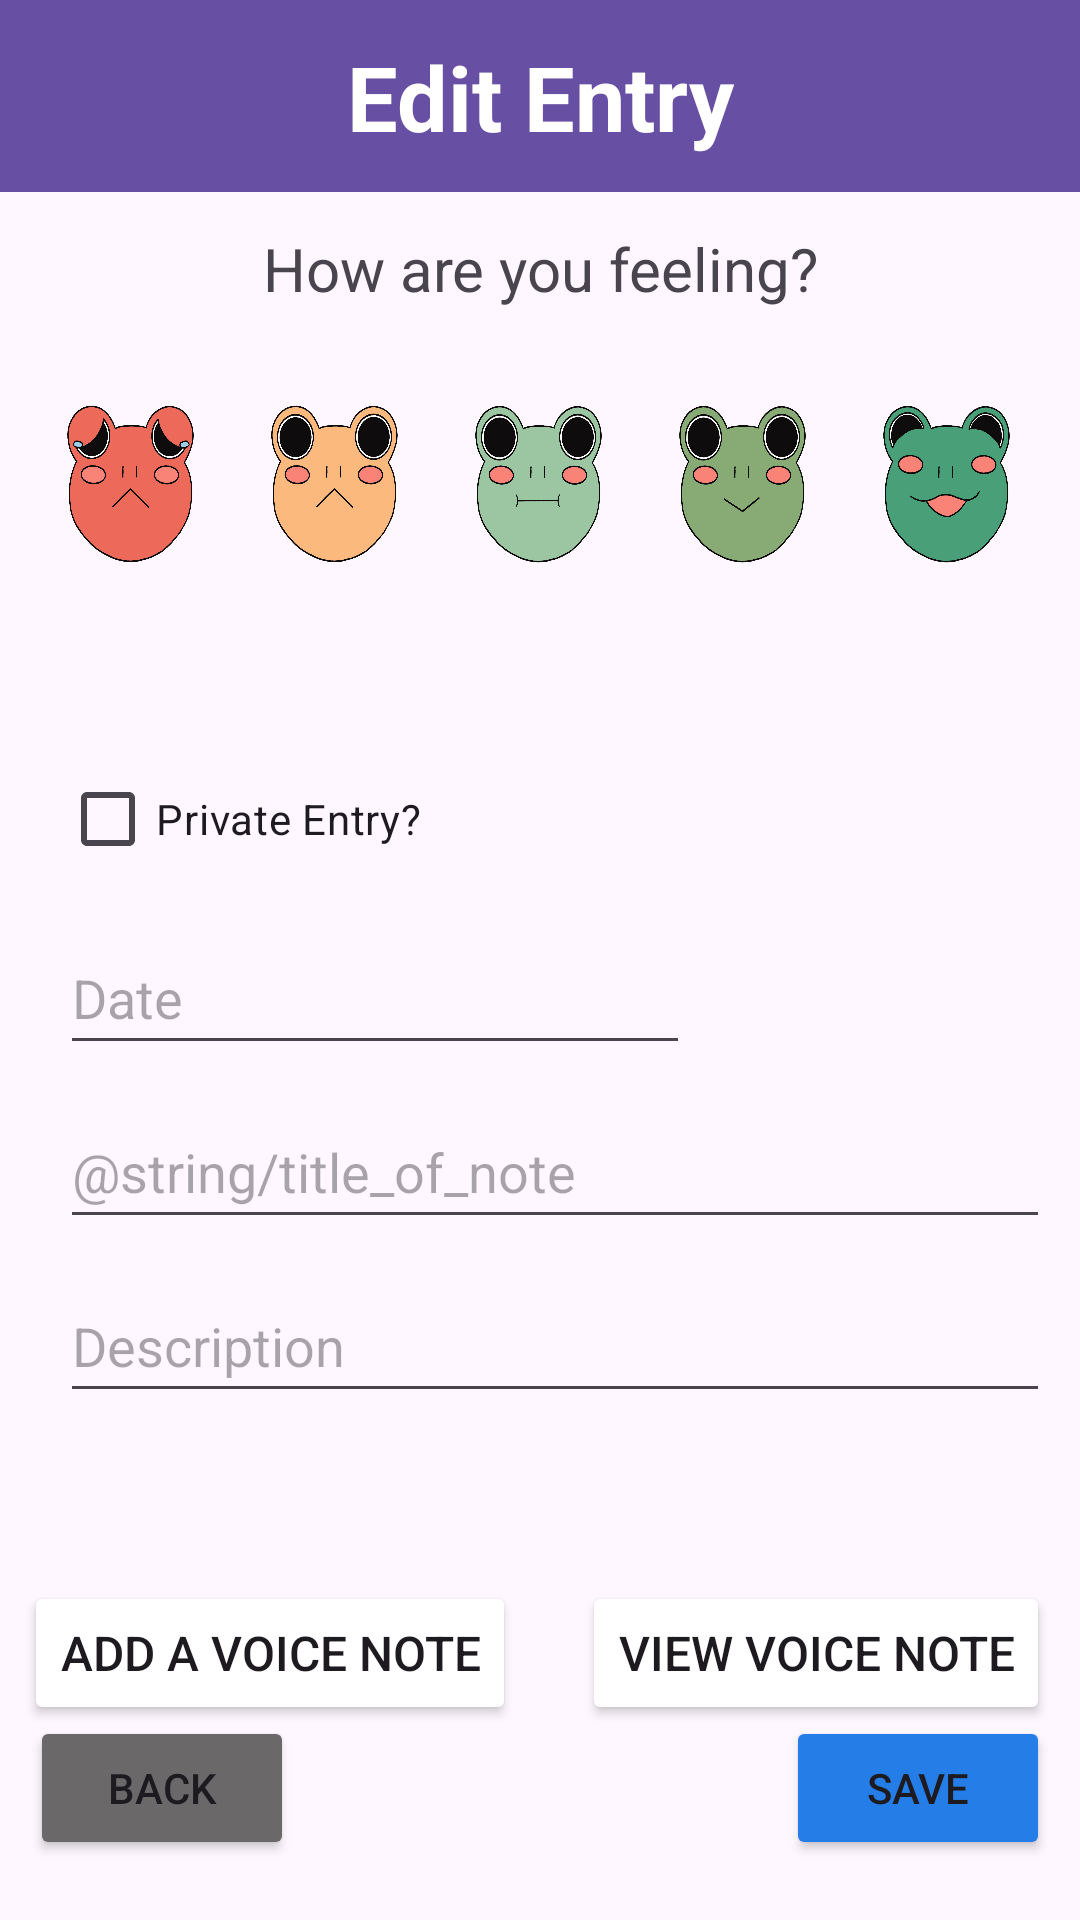

Screen size 1080px x 1920px. Icon name, then its box in pixels as (x1, y1, x2, y2):
level frog: (67, 405, 194, 562), (271, 405, 398, 562), (475, 406, 602, 563), (679, 406, 806, 563), (883, 406, 1010, 563)
